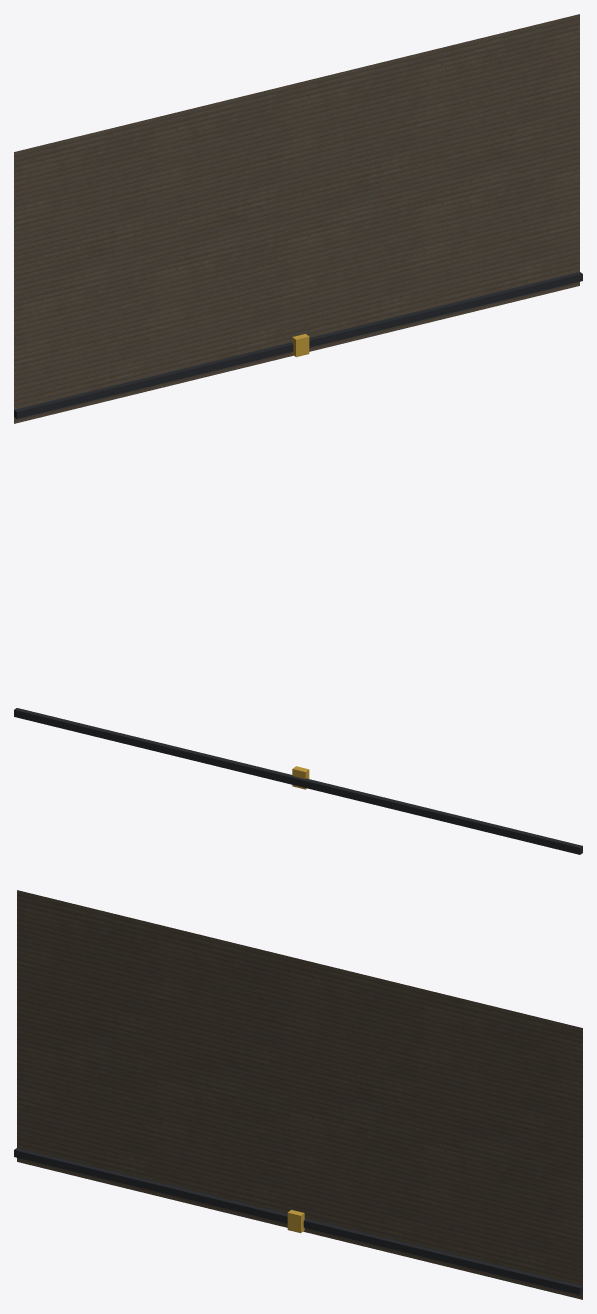
The model's file is shutter.glb.
3 views of the same model, one above another, from view 1: azimuth 30°, elevation 25°; view 2: azimuth 150°, elevation 25°; view 3: azimuth 330°, elevation 25° (orthographic).
Parts seen in each view (by area): view 1: shutter_0, shutter_1; view 2: shutter_1; view 3: shutter_0, shutter_1.
Part boxes in pixels (x1=…): shutter_0: x1=14, y1=14, x2=579, y2=423; shutter_1: x1=14, y1=272, x2=582, y2=418; shutter_1: x1=14, y1=708, x2=582, y2=854; shutter_0: x1=17, y1=890, x2=582, y2=1299; shutter_1: x1=14, y1=1148, x2=582, y2=1294.
Size of the model in its own units: 6.8 by 3.12 by 0.12.
3 materials, 3 textured.
